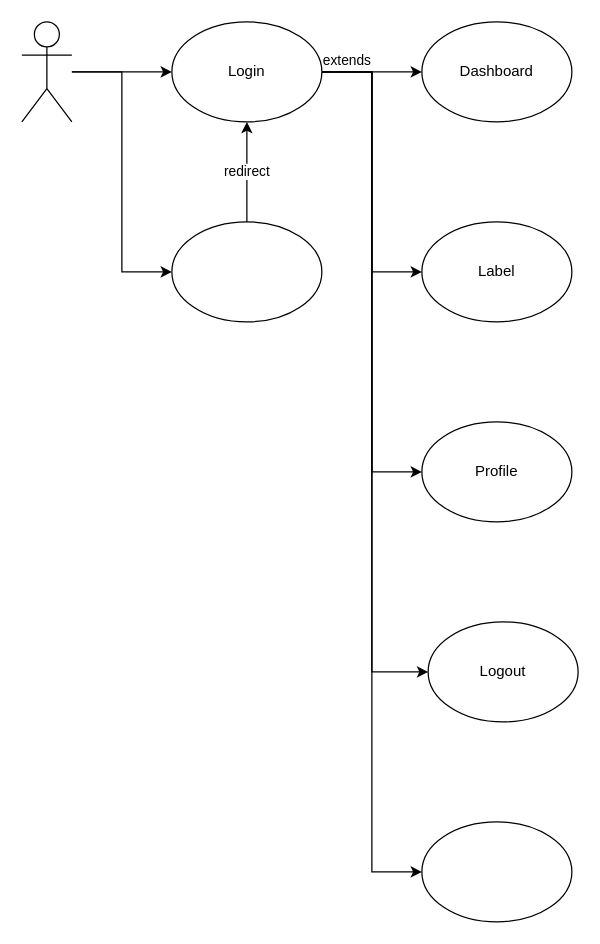
This 600x944 diagram has some shape labels left out. The centre of each missing label's shape, as x and y in pixels:
"Actor" goes at (46,71).
"Exit" goes at (496,871).
"Sign Up" goes at (246,271).
